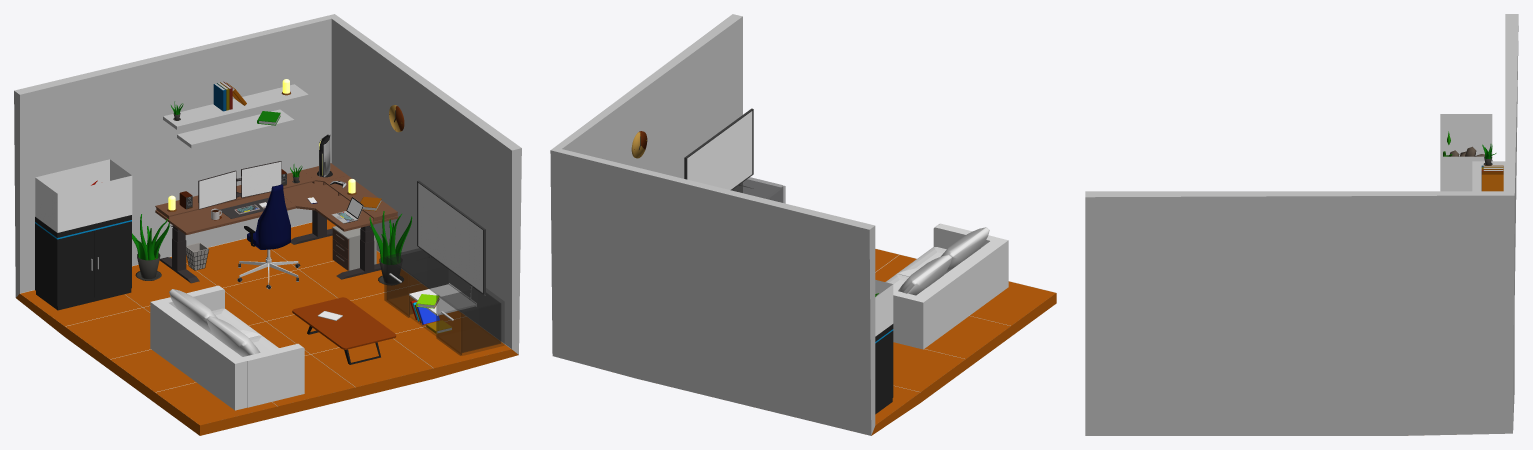
3 views of the same model, side by side, from view 1: azimuth 30°, elevation 25°; view 2: azimuth 150°, elevation 25°; view 3: azimuth 270°, elevation 25° (orthographic). The views are drawn at different scales.
Visible parts, largest first — view 1: Cube.038, Cube.072, table-all, rooks-container, flowers-table, aqu, Cube.039, tv-screen, Cube.041, Cube.048, Cube.040, chair (+8 smaller); view 2: Cube.038, Cube.072, tv-screen, rooks-container, aqu, Cube.039, Cube.041, Cube.047; view 3: Cube.038, aqu, flowers-table.
Part boxes in pixels (x1,y1,x2,y2): Cube.038: (14,14,521,435); Cube.072: (150,285,304,410); table-all: (155,134,398,283); rooks-container: (35,215,131,310); flowers-table: (132,81,404,280); aqu: (35,159,132,232); Cube.039: (387,248,504,355); tv-screen: (418,183,482,292); Cube.041: (436,289,500,355); Cube.048: (292,297,396,364); Cube.040: (384,251,448,317); chair: (244,184,290,258); Cube.038: (550,14,1056,435); Cube.072: (885,223,1008,349); tv-screen: (687,111,752,189); rooks-container: (875,324,893,414); aqu: (875,280,893,336); Cube.039: (732,177,782,202); Cube.041: (732,180,785,203); Cube.047: (684,108,753,190); Cube.038: (1085,14,1518,435); aqu: (1440,114,1492,191); flowers-table: (1472,144,1505,191).
Bounding box in the file's own units: 39.15 × 24.32 × 39.15.
